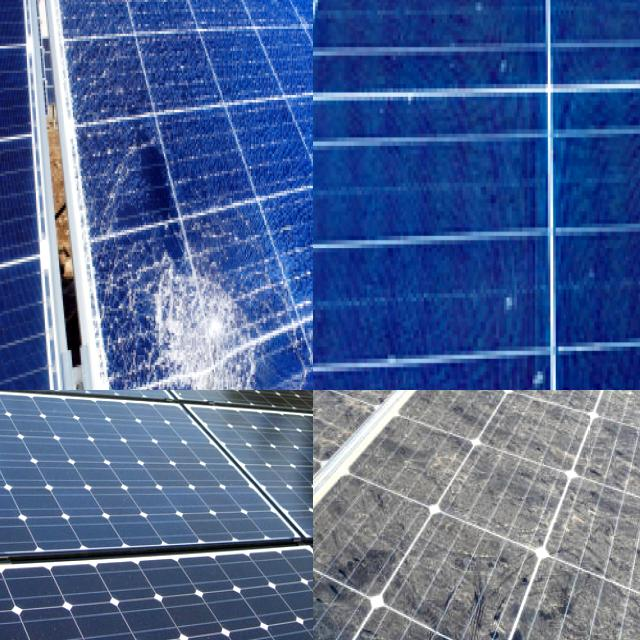crack: (0, 390, 306, 559), (0, 554, 313, 640), (0, 390, 179, 463), (105, 390, 313, 445), (0, 390, 135, 443), (1, 390, 182, 428)
dust: (533, 390, 640, 595), (432, 401, 526, 560), (313, 390, 359, 595), (327, 494, 412, 590), (341, 390, 421, 491), (329, 390, 436, 440), (536, 390, 640, 440), (313, 390, 371, 475), (523, 608, 640, 640), (450, 390, 500, 417)
hotspot: (136, 256, 275, 390)
